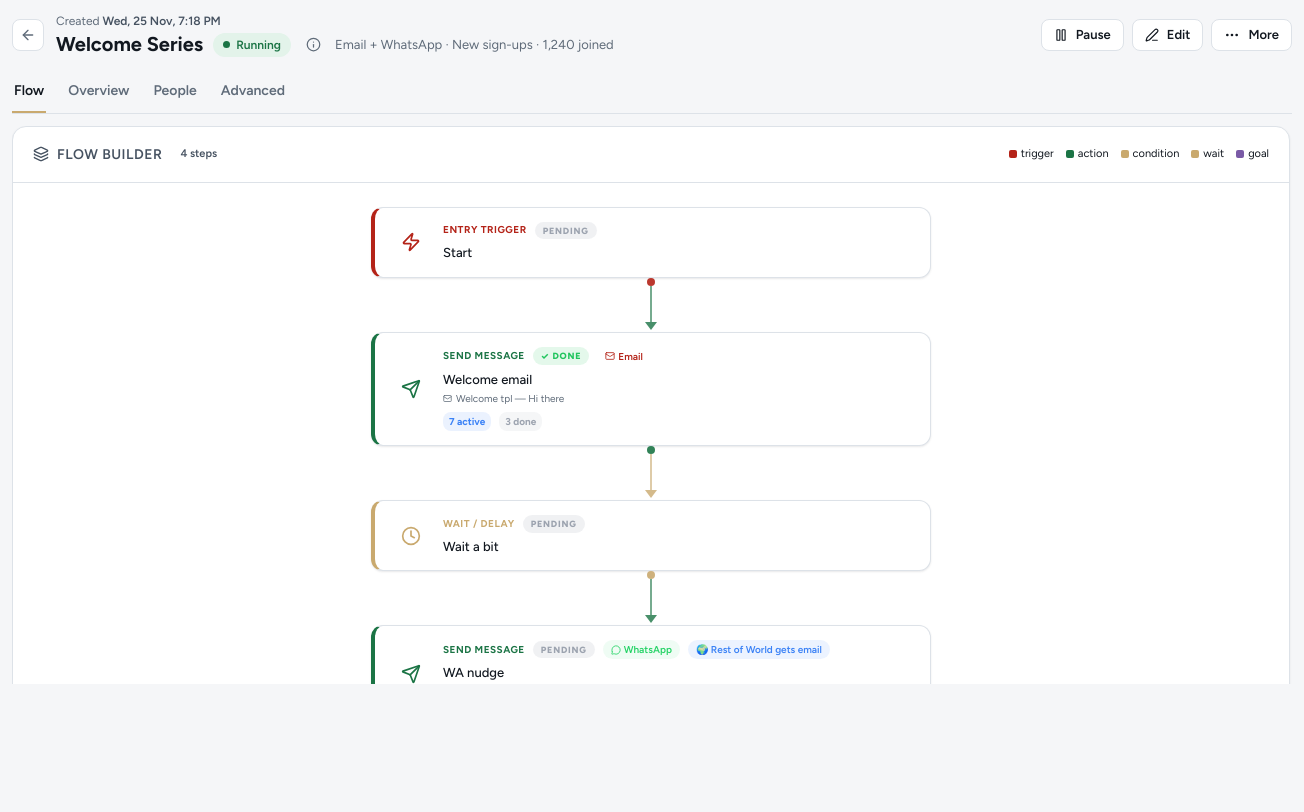
Scenario: Journey detail › funnel skips stages whose data is not available
Check: the heading "Welcome Series" is shown, box [56,32,203,57]
Click the tab "Overview".
click(99, 91)  # box [66,69,131,113]
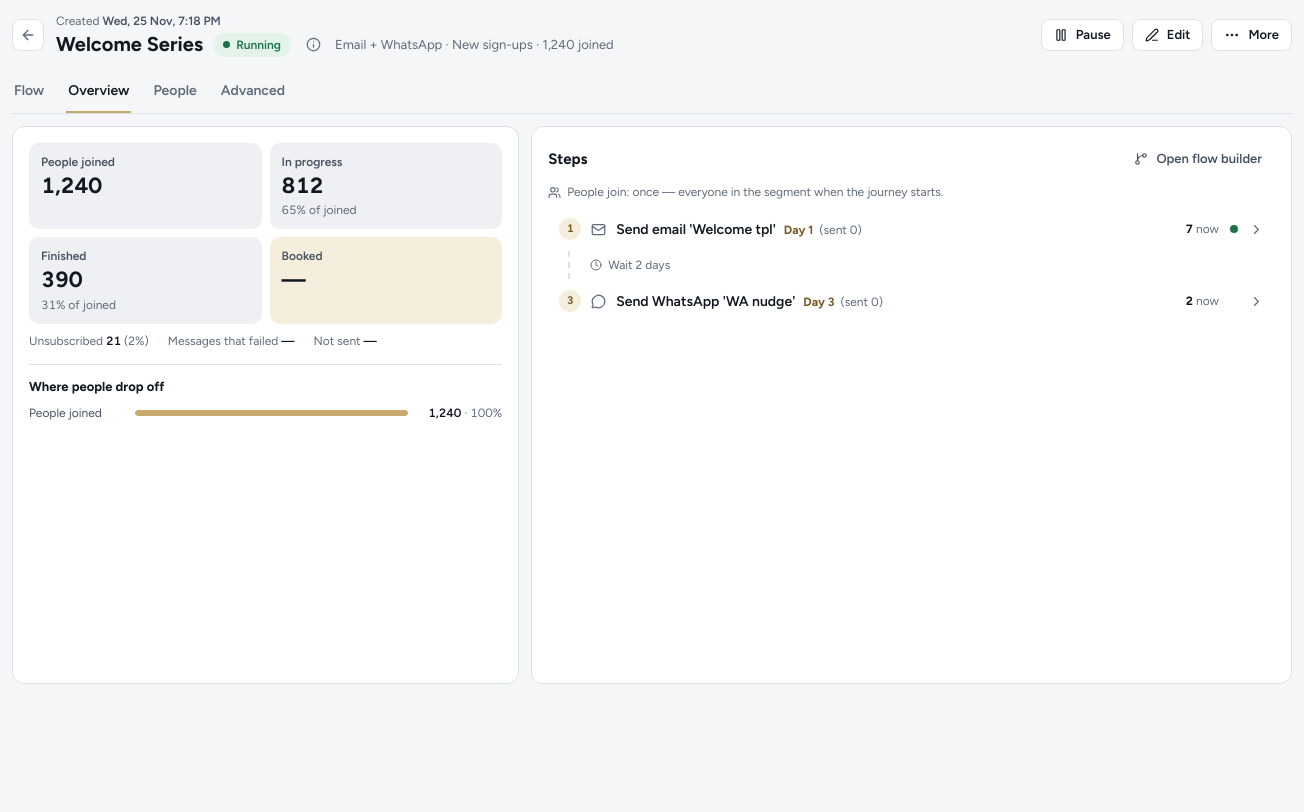
Check: the list items read "People joined1,240 · 100%", in this order, box [29,404,502,422]
